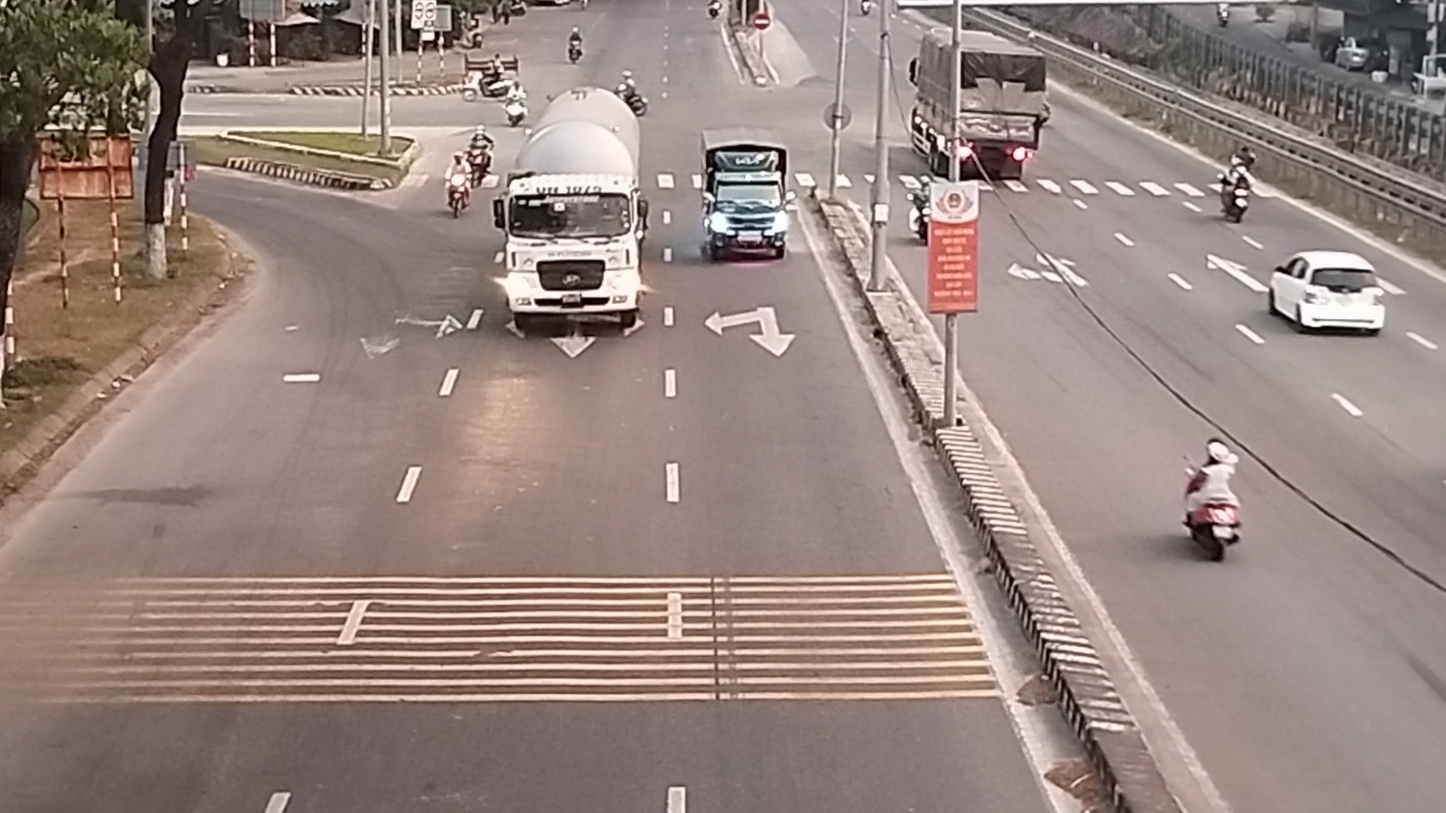Car: (1267, 249, 1387, 333), (1334, 36, 1369, 71)
Motor: (1181, 438, 1245, 562), (1218, 154, 1252, 223), (445, 152, 472, 218), (467, 125, 495, 187), (909, 176, 933, 245), (615, 70, 648, 116), (505, 80, 528, 126), (568, 27, 583, 64), (1216, 3, 1230, 27), (861, 0, 871, 16)
Truck: (905, 11, 1052, 188), (700, 126, 789, 263)
